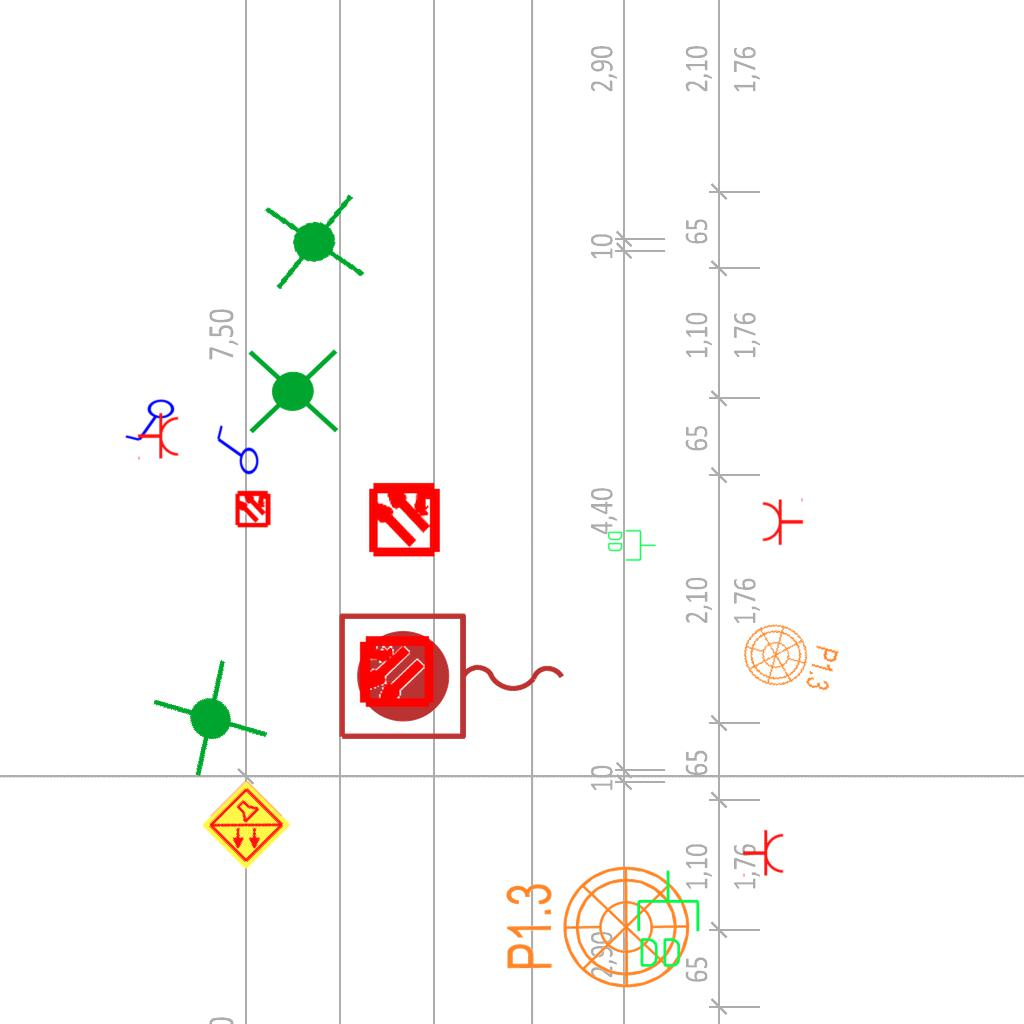Aufbaurundleuchte_LED_Treppenhaus: (488, 852, 693, 991), (733, 615, 851, 710)
Ausschalter: (212, 424, 260, 480), (124, 398, 180, 446)
Datenanschluss_zweifach: (633, 868, 702, 971), (606, 528, 657, 562)
Notlichtbaustein_in_Allgemeinbeleuchtug_engebaut_Einbau_(1UG_und_2UG_Aufbauvaria: (141, 648, 282, 788), (257, 185, 372, 301), (243, 341, 343, 444)
OKW_Multisensormelder_(Kombination_optischer_Rauch-Kahlenmonoxid_Waerme-Melder): (199, 778, 293, 872)
OT_Multisensormelder_(Kombination_RMO_WMD): (348, 461, 461, 574), (338, 615, 451, 728), (225, 480, 281, 536)
Schukosteckdose_einfach: (742, 829, 785, 879), (761, 496, 804, 546), (137, 412, 180, 462)
Zugtaster: (331, 606, 575, 750)
